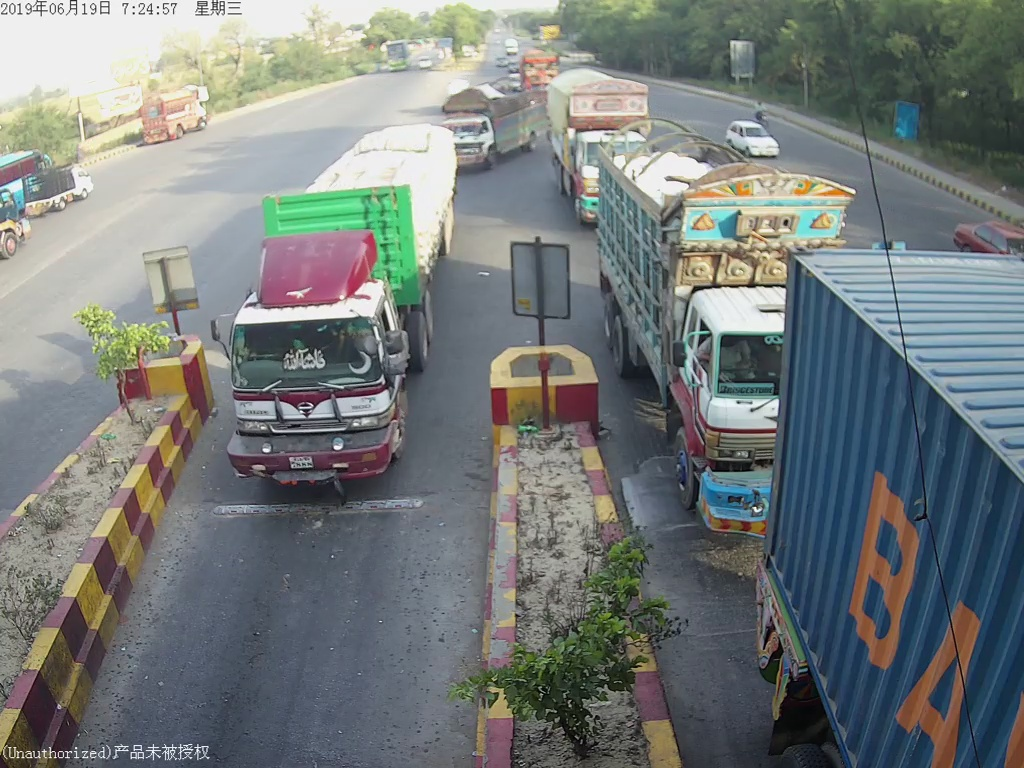Cat-5: (215, 113, 468, 502)
